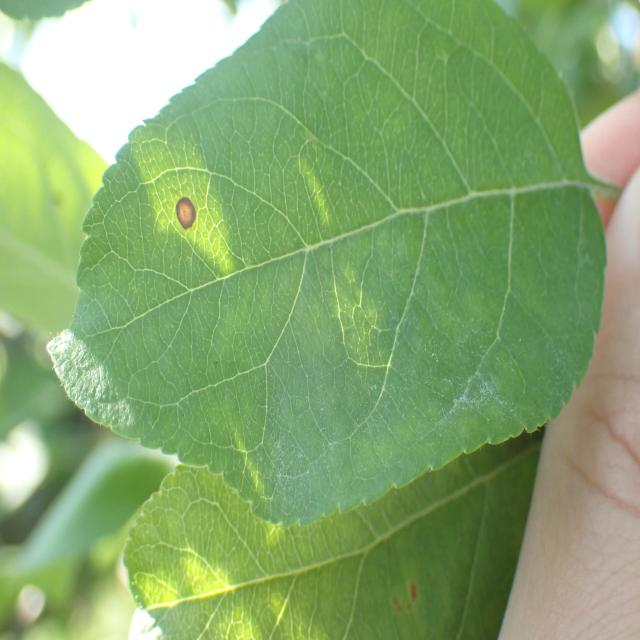frog-eye-leaf-spot: (48, 2, 610, 534)
